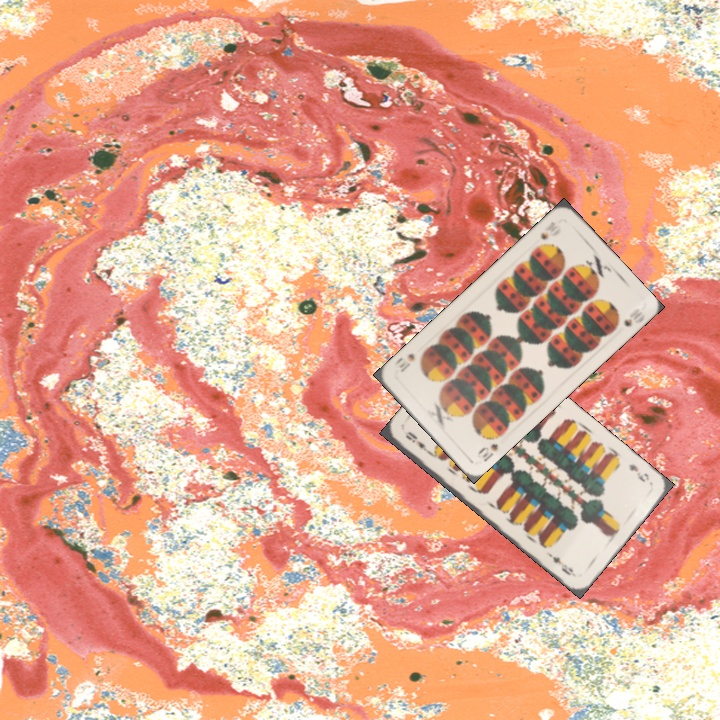E9: (400, 427, 434, 457), (624, 460, 652, 485)
S10: (473, 439, 500, 464), (537, 217, 559, 242)
